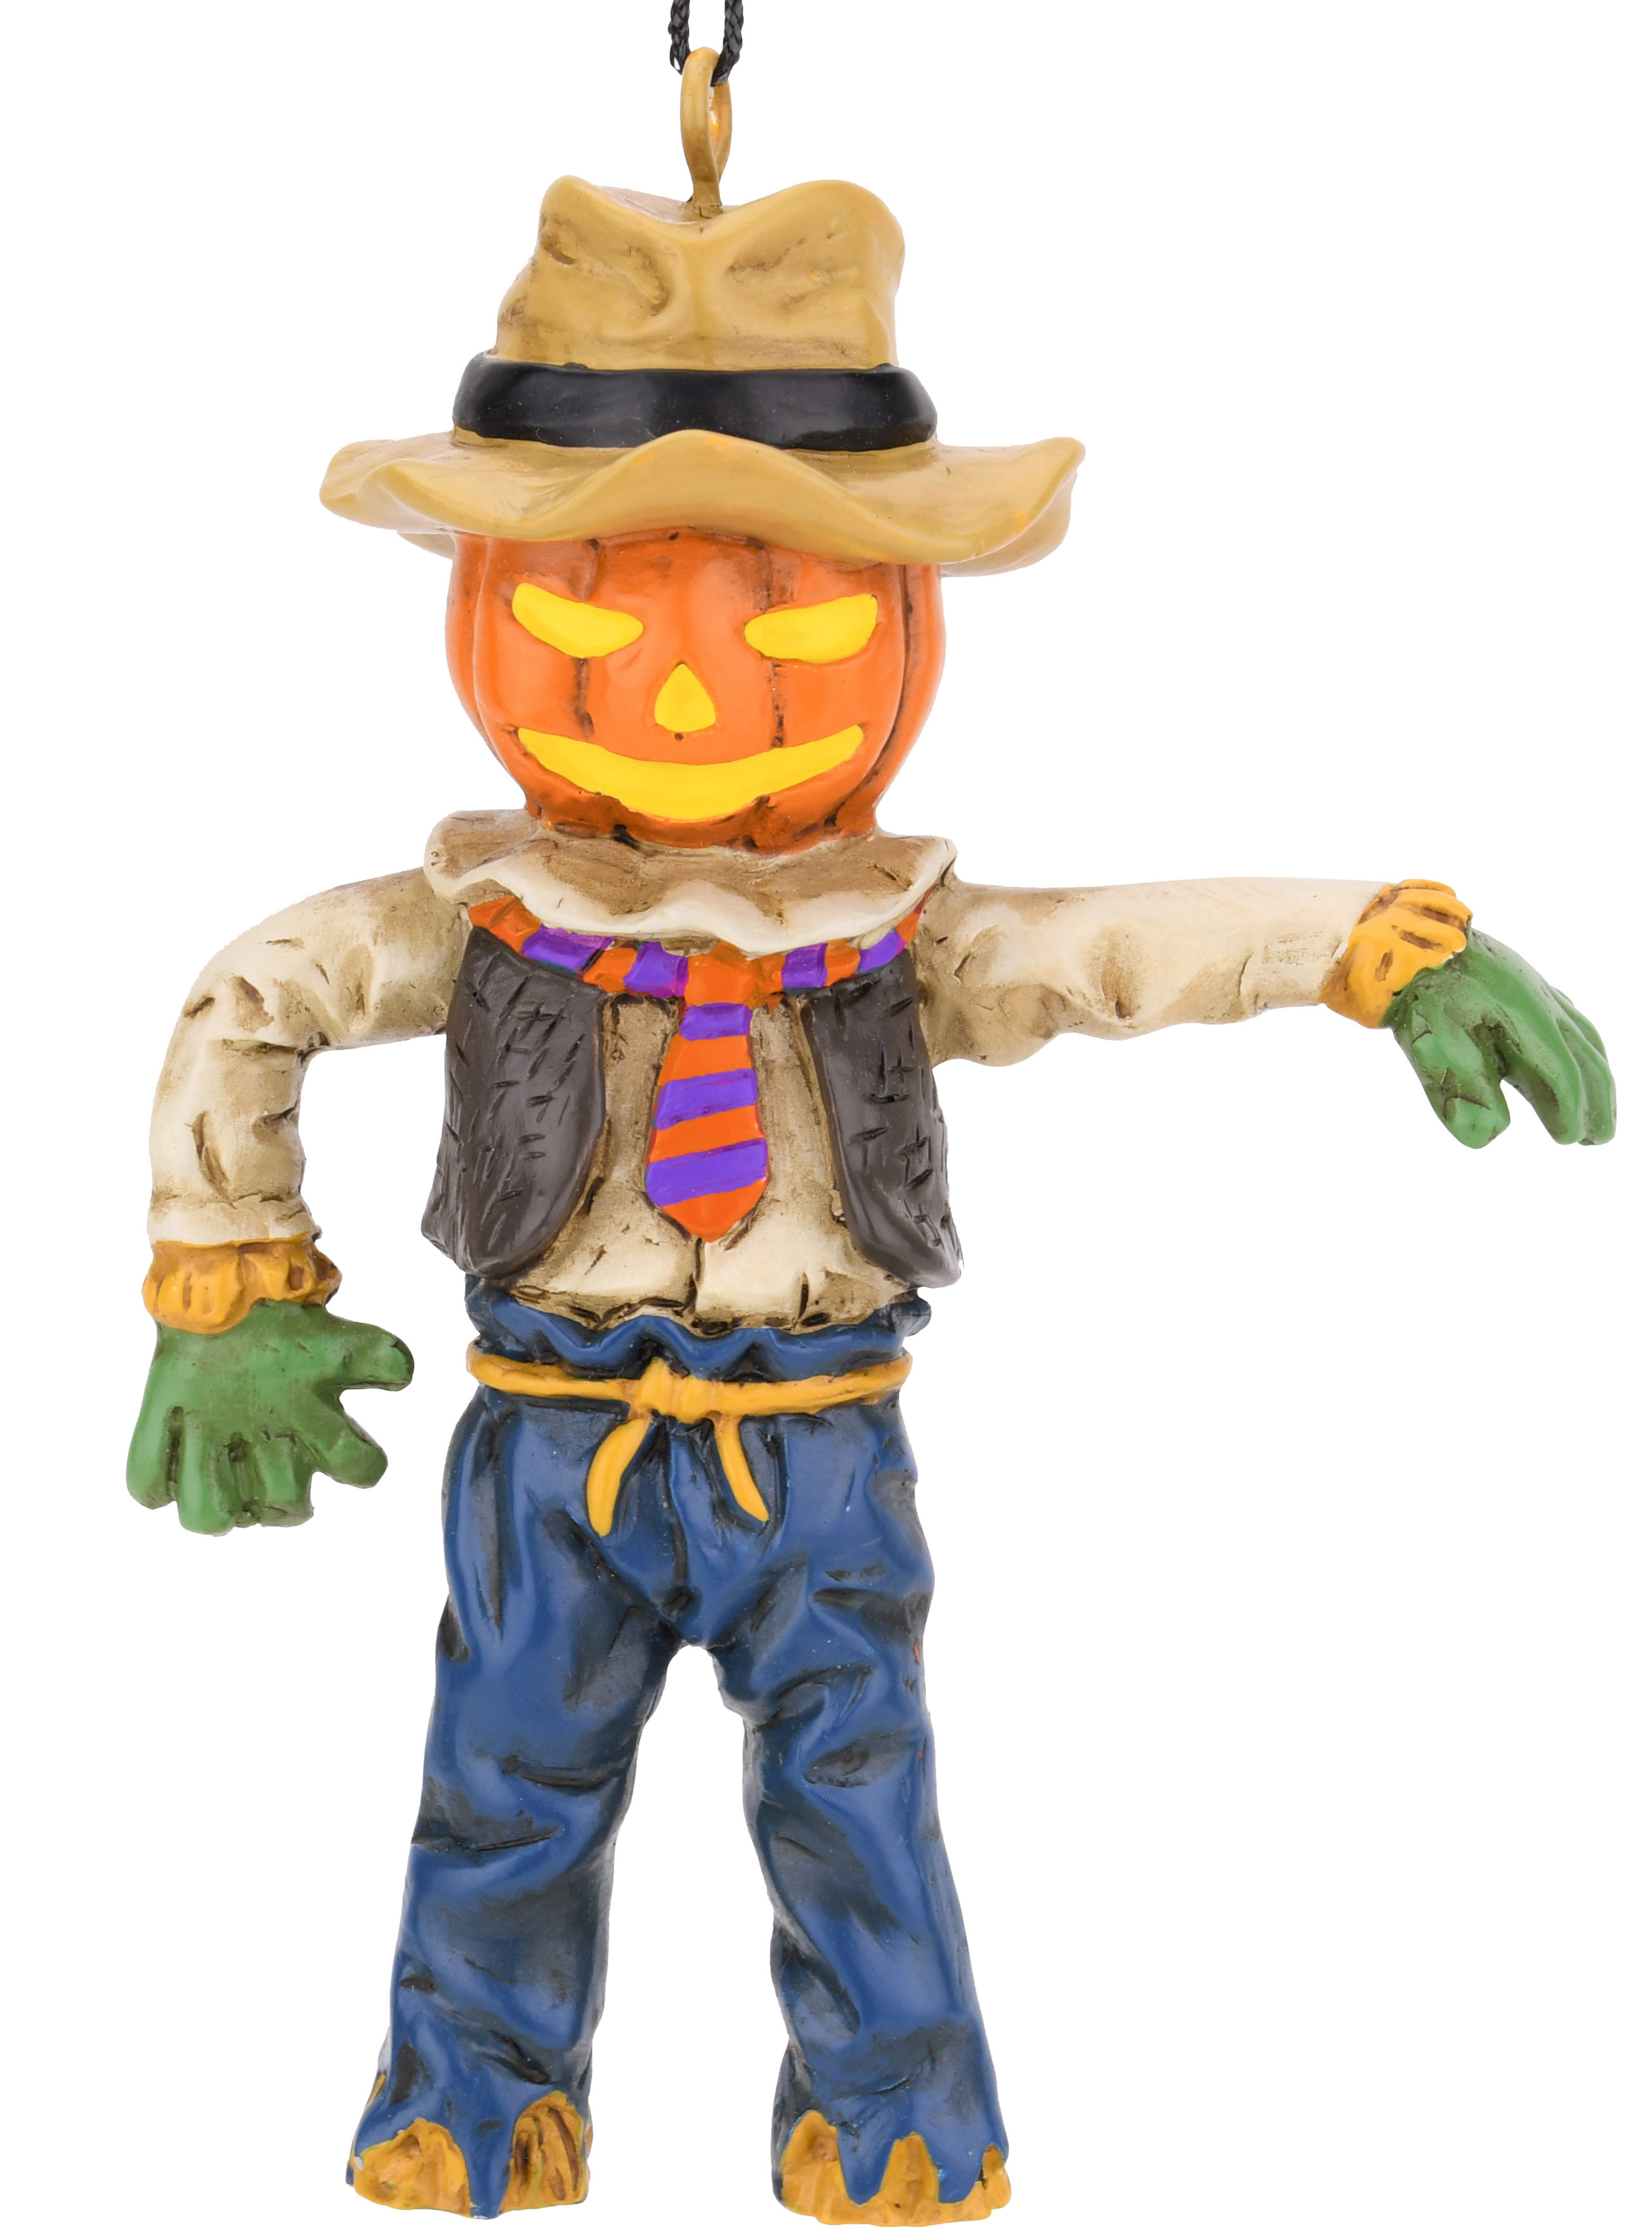person-like: (118, 43, 1620, 2235)
